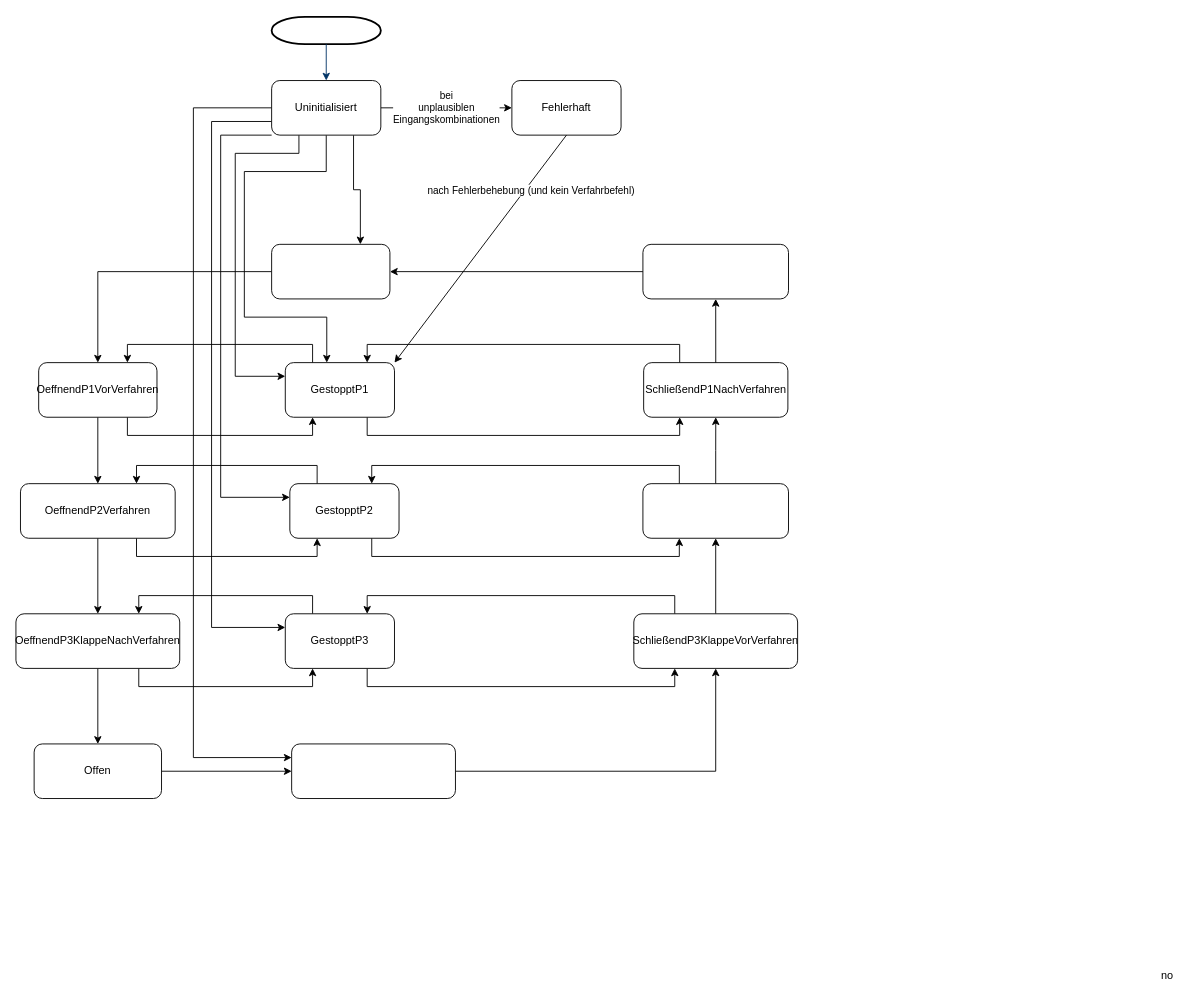
The diagram is 1201 pixels wide and 1002 high, and some of its shapes have lost their labels. The box of each missing label's shape, as (x1, y1, x2, y2) in pixels:
Geschlossen: (642, 243, 789, 299)
GestopptGeschlossen: (271, 243, 390, 299)
GestopptOffen: (291, 743, 455, 799)
SchließendP2Verfahren: (642, 483, 789, 538)
start: (270, 15, 381, 45)
